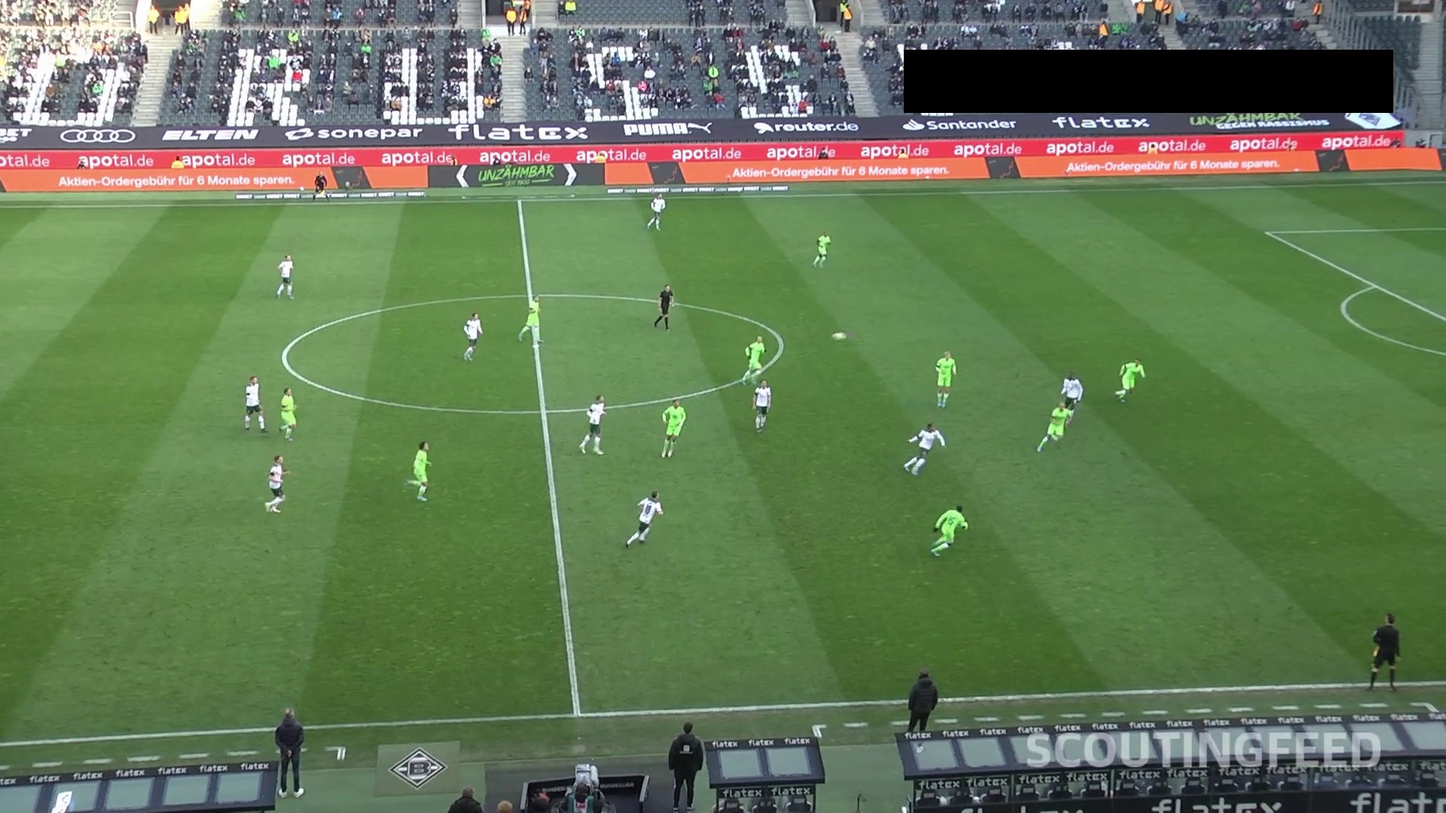ball: (882, 317, 911, 333)
goalkeeper: (1265, 650, 1338, 732), (108, 691, 181, 772)
player: (831, 244, 904, 325), (658, 203, 730, 285), (600, 285, 672, 366), (716, 366, 788, 447), (571, 163, 643, 244), (759, 122, 831, 203), (687, 488, 759, 569), (788, 423, 860, 504)
referee: (687, 244, 759, 325)
